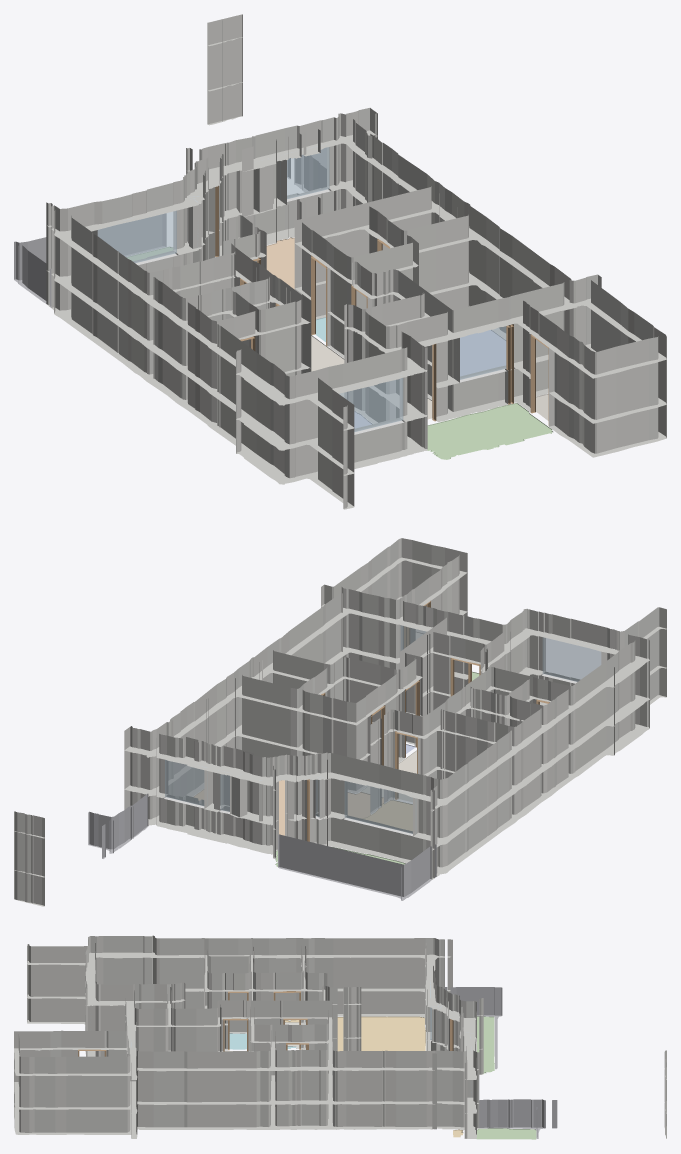
The picture shows the model from 3 angles, top to bottom: view 1: azimuth 30°, elevation 25°; view 2: azimuth 150°, elevation 25°; view 3: azimuth 270°, elevation 25°; orthographic projection. The views are drawn at different scales.
Visible parts, largest first — view 1: walls, railings, floor_0_Outdoor, window_23, window_25, window_24, window_15, floor_9_Bed_Room, floor_7_Living_Room, floor_14_Entry; view 2: walls, railings, window_23, window_25, window_15, floor_5_Kitchen, floor_7_Living_Room; view 3: walls, railings, floor_5_Kitchen, floor_1_Outdoor, floor_2_Outdoor.
Part boxes in pixels (x1=…): walls: x1=46, y1=14, x2=666, y2=509; railings: x1=14, y1=147, x2=326, y2=307; floor_0_Outdoor: x1=427, y1=403, x2=552, y2=459; window_23: x1=97, y1=210, x2=176, y2=263; window_25: x1=339, y1=375, x2=403, y2=431; window_24: x1=456, y1=326, x2=506, y2=379; window_15: x1=280, y1=144, x2=329, y2=200; floor_9_Bed_Room: x1=460, y1=330, x2=505, y2=376; floor_7_Living_Room: x1=266, y1=237, x2=294, y2=289; floor_14_Entry: x1=311, y1=335, x2=344, y2=396; walls: x1=14, y1=538, x2=666, y2=906; railings: x1=88, y1=793, x2=436, y2=900; window_23: x1=344, y1=781, x2=412, y2=833; window_25: x1=542, y1=637, x2=601, y2=681; window_15: x1=165, y1=760, x2=206, y2=805; floor_5_Kitchen: x1=362, y1=800, x2=412, y2=830; floor_7_Living_Room: x1=194, y1=780, x2=383, y2=835; walls: x1=14, y1=935, x2=666, y2=1138; railings: x1=445, y1=987, x2=557, y2=1138; floor_5_Kitchen: x1=337, y1=1016, x2=425, y2=1051; floor_1_Outdoor: x1=477, y1=1016, x2=494, y2=1074; floor_2_Outdoor: x1=476, y1=1128, x2=536, y2=1139.
Size of the model in its own units: 9.76 by 2.72 by 21.08.
